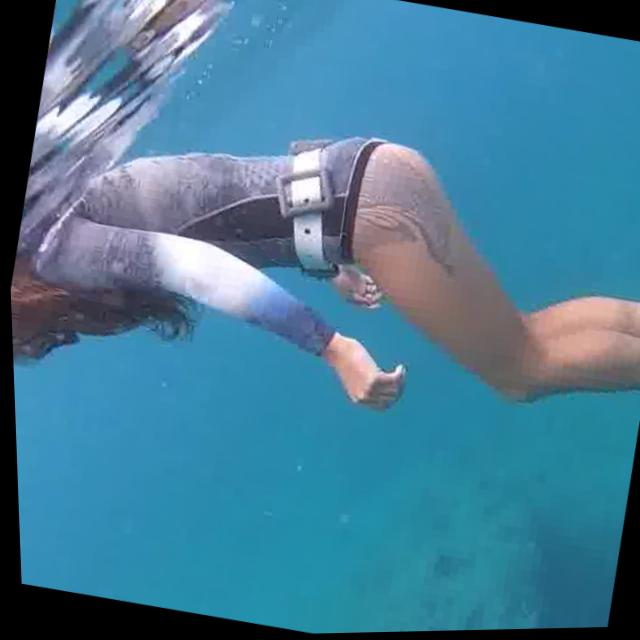human: (2, 56, 640, 488)
